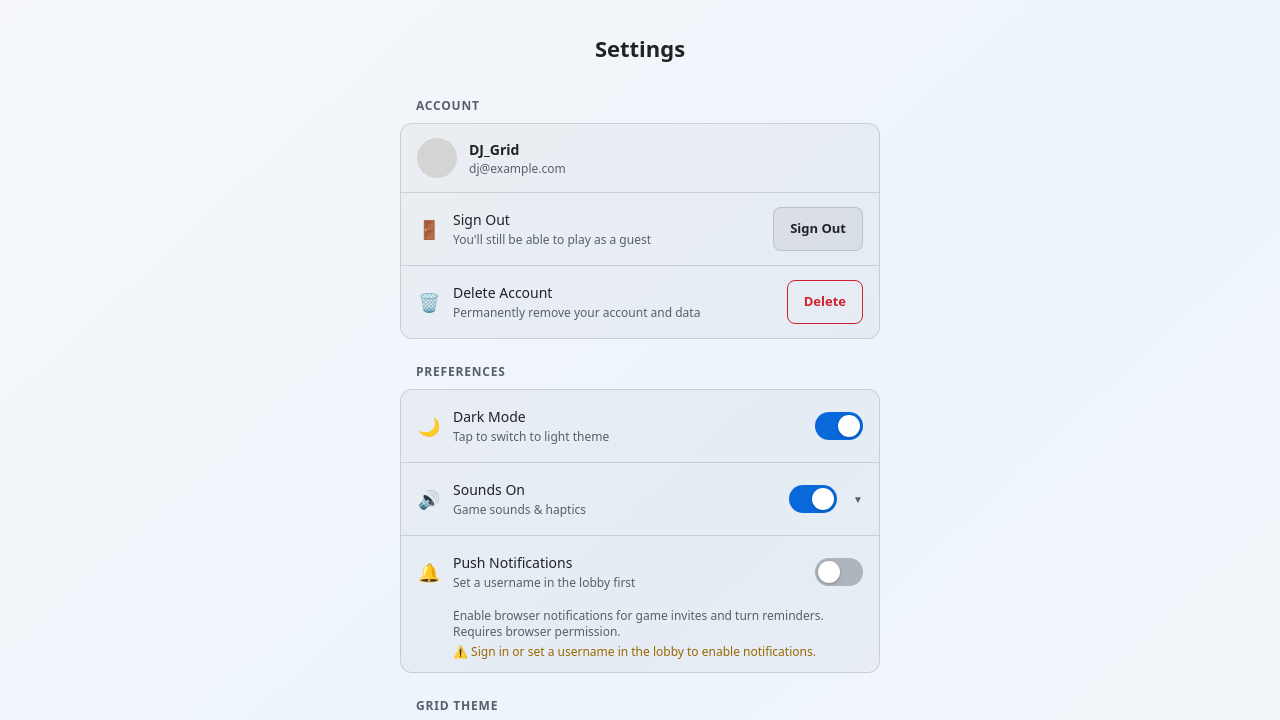
Scenario: Settings Account Section › Escape closes the delete confirmation modal
The image size is (1280, 720).
Click the button with test id "auth-delete-button" at (825, 302), box [787,280,863,324]
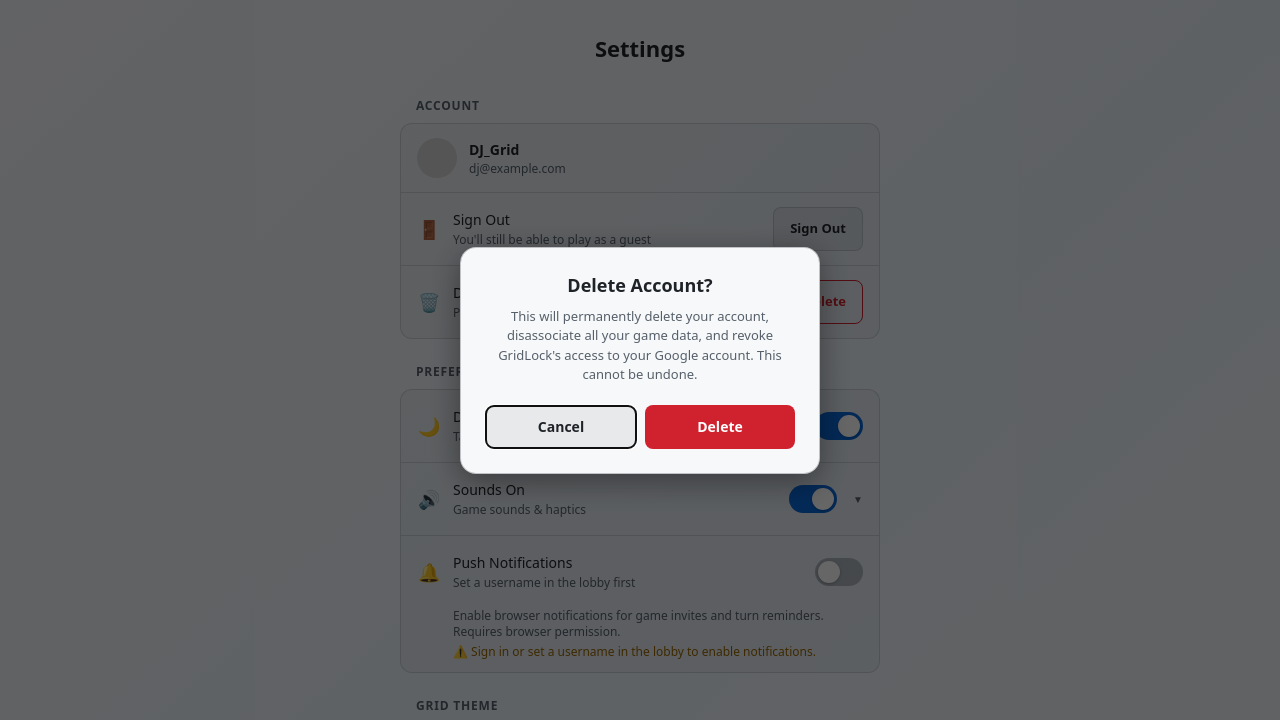
Now the dialog with test id "delete-confirm-modal" is shown
Press Escape
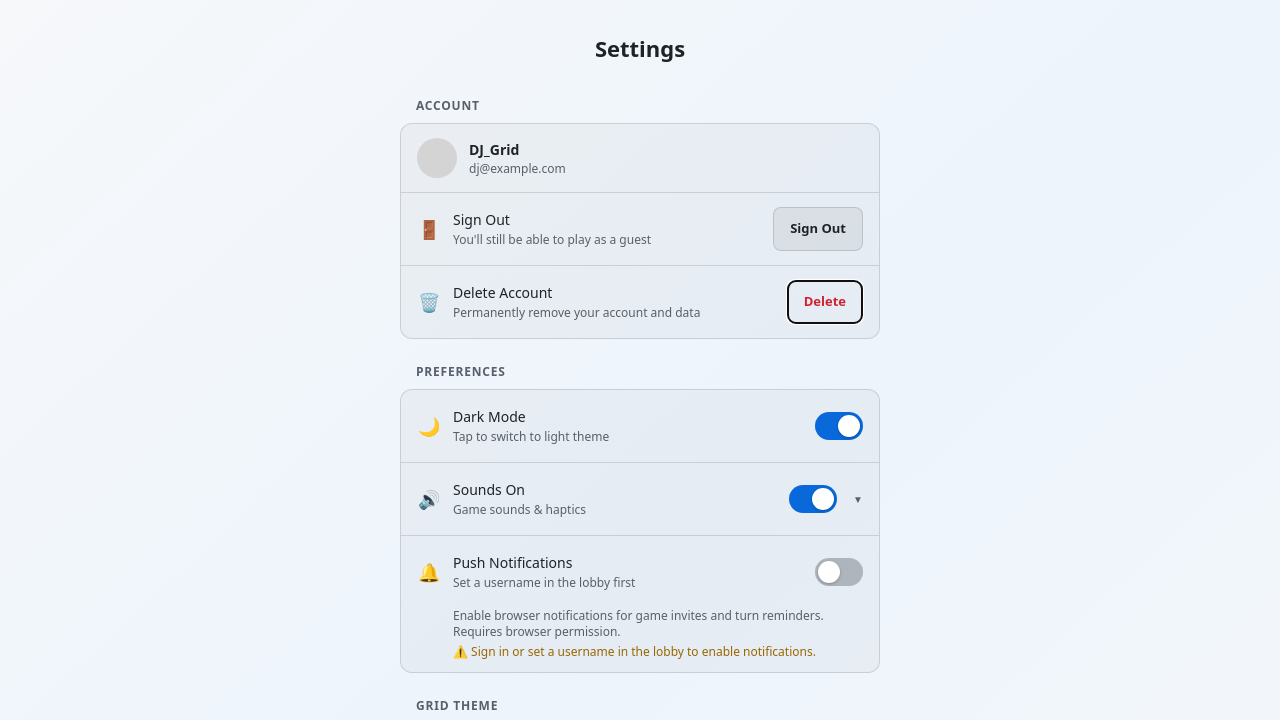
Now the dialog with test id "delete-confirm-modal" is gone
